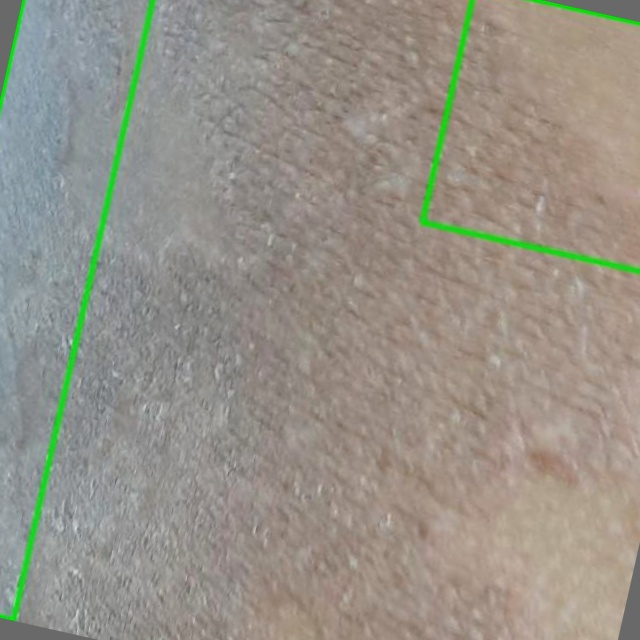Tinea Corporis: (422, 0, 639, 271)
